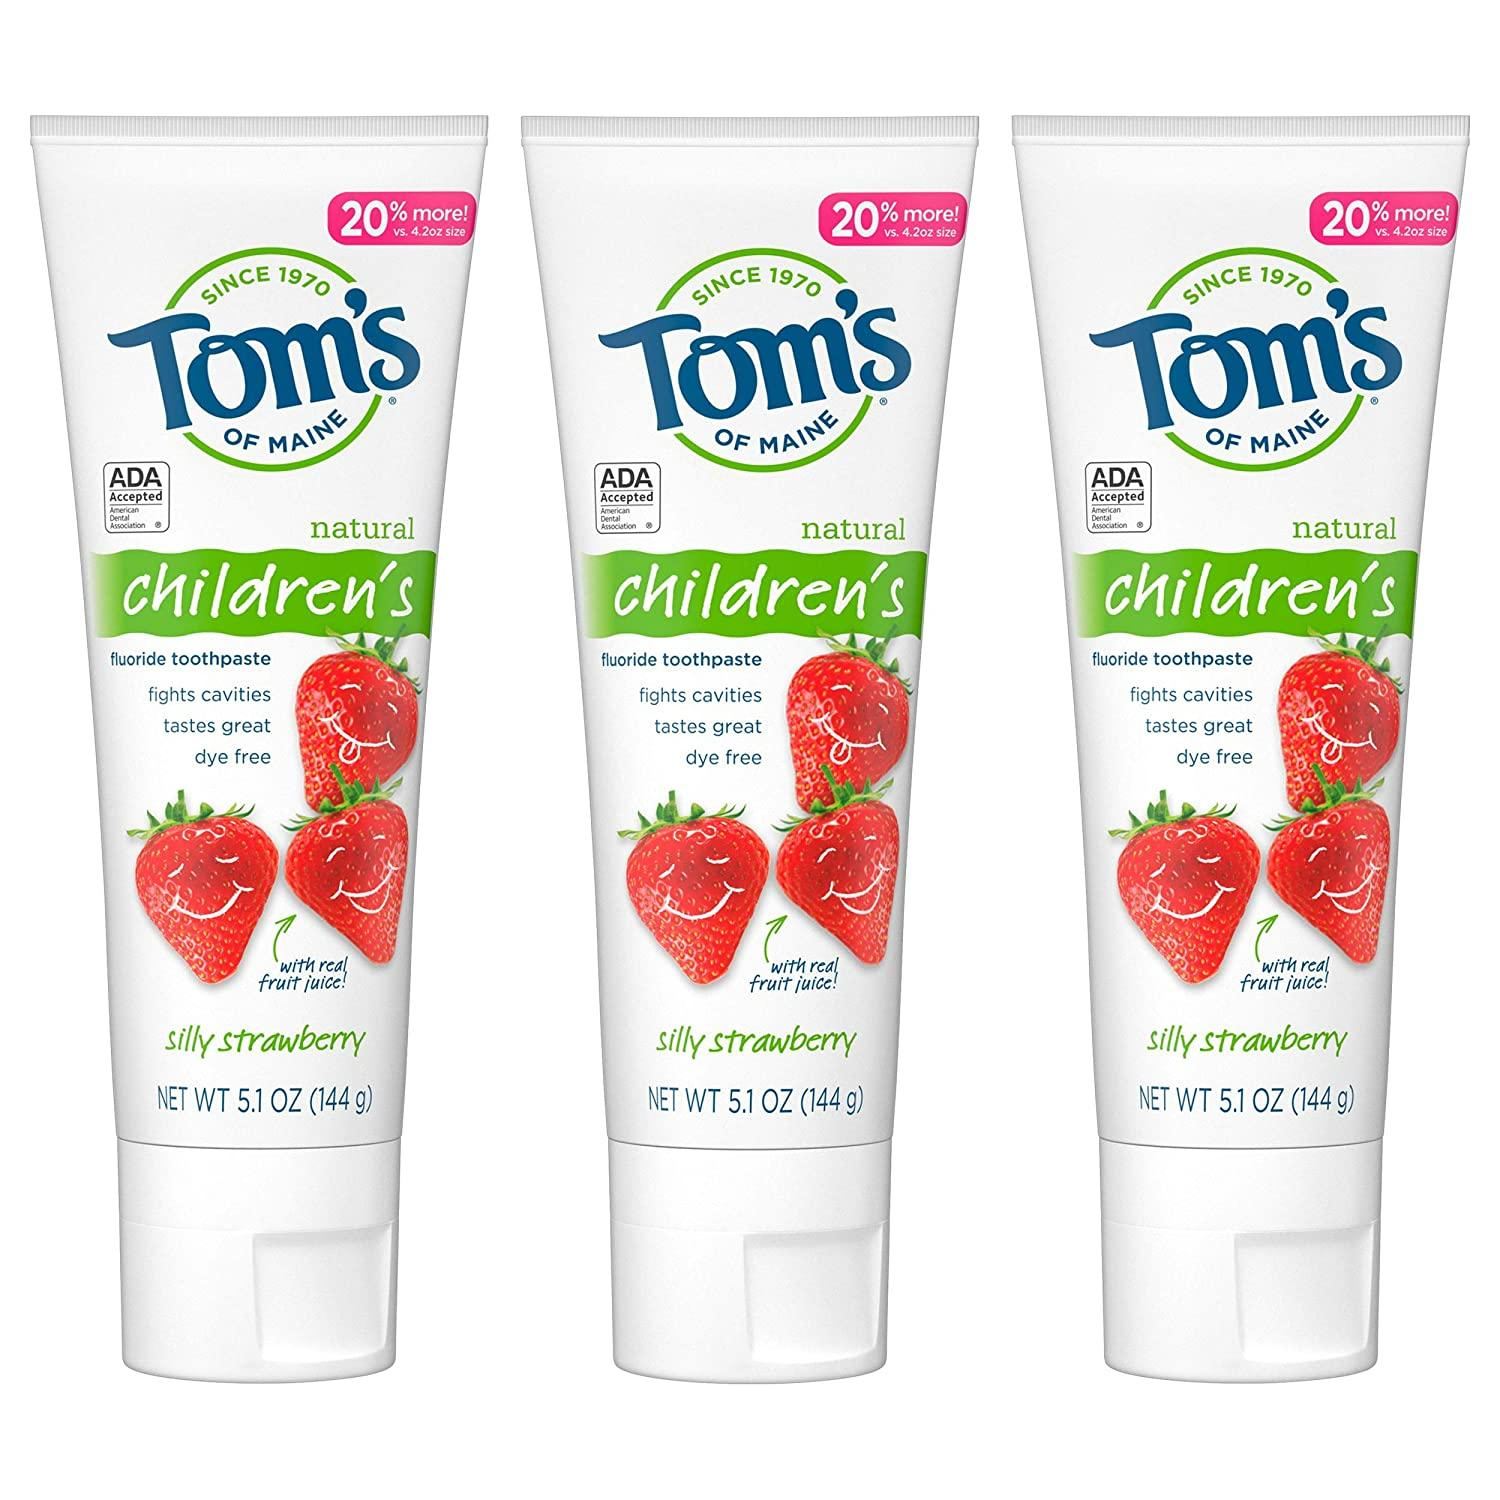toothpaste: (1000, 104, 1495, 1405), (507, 102, 1001, 1400), (19, 98, 515, 1386)
